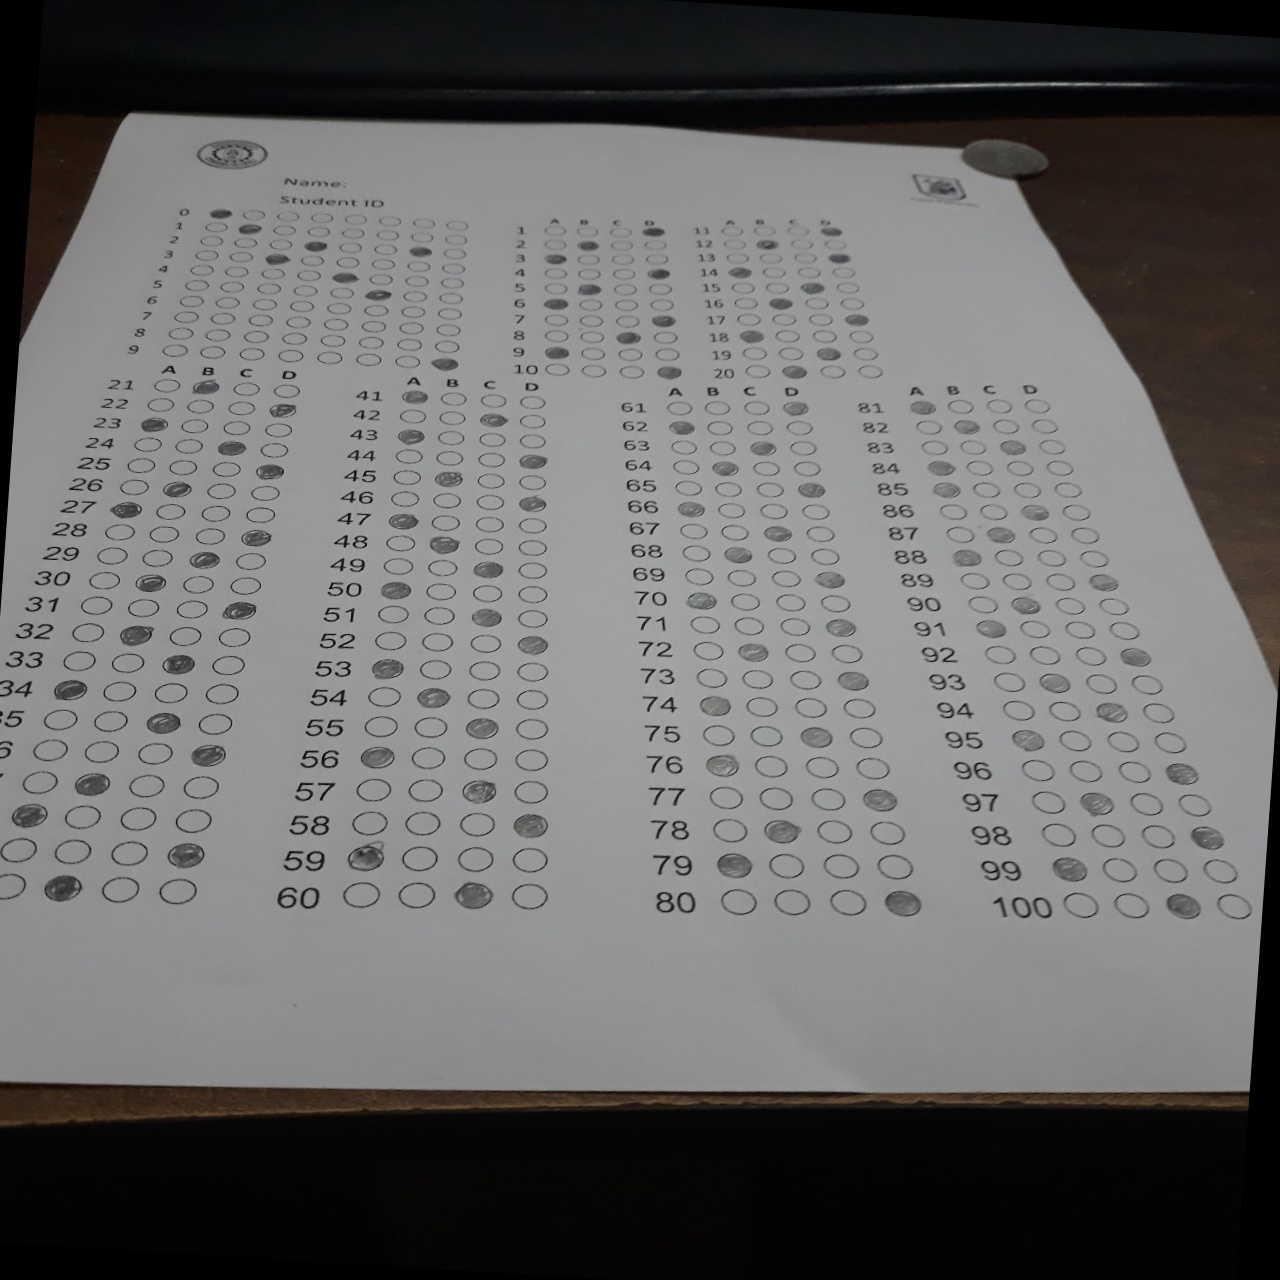not-c: (116, 801, 158, 832), (61, 802, 104, 832), (455, 808, 498, 838), (362, 678, 406, 708), (19, 767, 61, 797), (508, 774, 550, 804), (509, 713, 551, 743), (108, 839, 151, 869), (504, 881, 547, 911), (400, 844, 443, 873), (408, 741, 451, 770), (359, 710, 402, 740), (52, 836, 93, 866), (508, 844, 549, 874), (29, 734, 72, 763), (96, 874, 138, 904), (156, 876, 198, 905), (342, 879, 384, 908), (394, 879, 436, 908), (452, 842, 495, 871), (350, 774, 393, 803), (457, 743, 499, 772), (508, 744, 550, 774), (171, 806, 215, 835), (869, 816, 908, 846), (402, 809, 443, 838), (348, 808, 389, 837), (404, 774, 445, 803), (410, 710, 451, 740), (462, 682, 503, 712), (1114, 756, 1152, 787), (707, 783, 747, 812), (708, 815, 748, 844), (1065, 757, 1105, 787), (1060, 890, 1098, 919), (1129, 789, 1167, 818), (414, 628, 454, 656), (828, 887, 867, 915), (719, 887, 758, 915), (813, 816, 853, 844), (874, 850, 914, 878), (1099, 856, 1139, 884), (1088, 821, 1128, 849), (1173, 790, 1213, 818), (1032, 787, 1071, 815), (1019, 755, 1058, 783), (1103, 726, 1143, 754), (1149, 729, 1189, 757), (510, 685, 549, 713), (512, 656, 551, 685), (767, 851, 805, 879), (821, 852, 859, 880), (772, 886, 811, 914), (1114, 892, 1152, 920), (1214, 891, 1253, 919), (1200, 857, 1239, 885), (1152, 855, 1191, 883), (1040, 819, 1078, 847), (368, 627, 408, 654), (509, 606, 549, 633), (1138, 821, 1176, 849), (465, 654, 504, 681), (414, 658, 452, 685), (465, 626, 504, 653), (1056, 726, 1095, 753), (40, 704, 79, 730), (135, 740, 173, 765), (203, 679, 240, 704), (83, 738, 121, 764), (125, 772, 163, 798), (184, 774, 222, 799), (151, 680, 190, 704), (809, 787, 845, 812), (756, 785, 792, 811), (791, 694, 828, 719), (418, 579, 458, 601), (197, 710, 234, 734), (787, 668, 823, 692), (845, 726, 881, 749), (804, 755, 840, 778), (469, 512, 506, 535), (753, 754, 788, 777), (855, 756, 890, 779), (468, 583, 506, 604), (425, 510, 464, 531), (427, 489, 465, 510), (61, 649, 97, 672), (69, 621, 105, 644), (101, 679, 137, 701), (471, 447, 508, 469), (840, 696, 877, 719), (747, 724, 783, 747), (701, 723, 737, 745), (743, 696, 779, 719), (962, 455, 999, 477), (212, 653, 246, 676), (421, 606, 458, 627), (373, 602, 410, 624), (377, 554, 415, 576), (422, 557, 459, 578), (470, 535, 508, 556), (389, 445, 427, 467), (474, 469, 511, 490), (999, 699, 1036, 720), (1073, 645, 1110, 666), (1128, 673, 1165, 694), (1001, 458, 1039, 479), (124, 595, 159, 618), (165, 625, 200, 647), (79, 594, 114, 617), (1085, 670, 1121, 693), (93, 710, 129, 731), (513, 537, 550, 558), (512, 558, 549, 579), (474, 491, 510, 512), (433, 445, 469, 467), (990, 670, 1027, 692), (982, 644, 1019, 665), (1026, 645, 1062, 666), (1107, 619, 1143, 640), (1097, 594, 1133, 615), (965, 594, 1001, 615), (956, 568, 993, 590), (999, 571, 1035, 592), (1069, 523, 1105, 544), (1026, 525, 1062, 546), (1007, 479, 1043, 501), (1056, 502, 1092, 523), (86, 570, 120, 592), (173, 595, 207, 618), (181, 573, 215, 595), (217, 625, 251, 647), (229, 573, 263, 595), (111, 651, 145, 673), (1051, 594, 1085, 617), (512, 583, 550, 602), (510, 515, 547, 535), (384, 489, 422, 509), (386, 468, 423, 488), (513, 471, 551, 491), (1046, 700, 1081, 721), (1063, 619, 1098, 640), (1016, 618, 1051, 639), (1044, 571, 1080, 592), (1078, 549, 1114, 570), (992, 547, 1027, 568), (942, 523, 978, 544), (975, 502, 1010, 523), (1049, 478, 1084, 499), (937, 499, 972, 520), (1044, 457, 1080, 478), (122, 454, 158, 474), (192, 525, 229, 545), (717, 520, 751, 542), (1141, 701, 1175, 722), (971, 477, 1005, 498), (163, 458, 200, 477), (130, 434, 165, 454), (101, 520, 136, 540), (772, 592, 808, 612), (1033, 549, 1068, 568), (176, 415, 212, 434), (171, 436, 207, 455), (244, 505, 280, 524), (139, 549, 176, 567), (93, 545, 129, 564), (668, 456, 702, 476), (712, 478, 745, 498), (753, 481, 787, 501), (757, 501, 791, 520), (726, 567, 760, 587), (680, 565, 714, 585), (762, 544, 796, 564), (802, 522, 836, 542), (819, 592, 853, 612), (729, 590, 763, 610), (731, 617, 765, 636), (689, 614, 723, 634), (692, 640, 726, 660), (829, 644, 863, 663), (210, 458, 245, 477), (204, 481, 239, 499), (247, 482, 282, 501), (197, 503, 232, 522), (152, 502, 188, 520), (118, 478, 154, 497), (147, 523, 182, 542), (670, 477, 703, 497), (799, 502, 832, 522), (713, 499, 745, 519), (678, 520, 710, 540), (680, 543, 713, 563), (770, 568, 803, 588), (809, 546, 842, 566), (694, 667, 727, 687), (742, 669, 775, 689), (784, 644, 817, 663), (515, 431, 549, 450), (233, 551, 268, 568), (474, 430, 508, 447), (515, 393, 546, 410), (788, 440, 818, 457), (704, 418, 736, 435), (745, 418, 775, 436), (990, 416, 1020, 434), (435, 428, 465, 444), (436, 409, 467, 425), (516, 411, 546, 428), (741, 399, 771, 415), (707, 440, 737, 456), (667, 437, 697, 454), (1037, 437, 1065, 455), (956, 438, 985, 456), (237, 346, 266, 362), (399, 407, 428, 423), (663, 399, 693, 415), (702, 399, 731, 415), (751, 459, 781, 476), (917, 418, 946, 435), (277, 348, 305, 365), (1030, 416, 1058, 433), (1024, 396, 1053, 413), (983, 399, 1012, 415), (921, 440, 949, 456), (437, 390, 467, 406), (478, 392, 508, 407), (784, 420, 813, 435), (791, 459, 821, 475), (395, 353, 422, 369), (315, 350, 342, 367), (147, 395, 173, 411), (230, 381, 257, 397), (273, 382, 300, 399), (260, 441, 287, 457), (222, 418, 248, 435), (291, 282, 319, 298), (198, 343, 226, 359), (948, 399, 976, 414), (298, 251, 325, 266), (308, 209, 335, 224), (213, 294, 240, 309), (209, 309, 236, 325), (178, 293, 205, 308), (197, 232, 224, 247), (227, 400, 254, 415), (264, 422, 291, 437), (396, 336, 423, 352), (321, 316, 349, 331), (328, 284, 356, 298), (294, 268, 322, 282), (217, 280, 245, 294), (171, 308, 199, 322), (186, 399, 215, 413), (847, 328, 873, 343), (851, 345, 877, 360), (399, 321, 424, 336), (267, 236, 293, 251), (230, 248, 256, 264), (325, 300, 352, 314), (254, 280, 281, 294), (305, 223, 332, 237), (240, 206, 267, 220), (162, 343, 189, 358), (181, 278, 207, 292), (193, 247, 220, 261), (154, 377, 181, 392), (202, 217, 229, 231), (771, 311, 796, 326), (835, 280, 860, 294), (839, 295, 865, 309), (812, 329, 838, 343), (795, 264, 821, 278), (789, 236, 815, 250), (787, 223, 812, 237), (758, 251, 784, 265), (765, 280, 791, 294), (775, 329, 801, 343), (745, 363, 771, 377), (729, 279, 755, 293), (576, 266, 601, 280), (440, 275, 465, 290), (360, 319, 386, 333), (259, 266, 285, 280), (343, 210, 369, 224), (272, 222, 298, 236), (233, 236, 259, 250), (166, 326, 195, 339), (288, 298, 315, 311), (333, 256, 360, 268), (338, 240, 365, 253), (338, 226, 365, 239), (205, 328, 232, 341), (858, 363, 883, 377), (804, 295, 829, 309), (753, 222, 777, 236), (736, 311, 761, 325), (734, 295, 758, 309), (724, 251, 749, 265), (608, 224, 633, 238), (411, 215, 436, 229), (363, 302, 388, 316), (248, 312, 273, 326), (819, 365, 845, 377), (794, 250, 819, 263), (761, 266, 787, 279), (777, 346, 803, 359), (610, 238, 635, 251), (576, 252, 601, 265), (441, 261, 467, 274), (409, 230, 435, 243), (368, 272, 394, 285), (275, 210, 301, 223), (224, 264, 250, 277), (186, 263, 212, 275), (810, 313, 835, 326), (741, 346, 765, 359), (721, 237, 745, 250), (720, 224, 744, 237), (651, 298, 675, 311), (653, 331, 678, 343), (654, 347, 679, 360), (618, 347, 642, 360), (619, 365, 644, 377), (613, 282, 638, 295), (614, 297, 639, 309), (574, 224, 599, 237), (542, 223, 566, 236), (540, 236, 565, 248), (579, 331, 604, 343), (445, 218, 470, 231), (444, 232, 469, 245), (443, 246, 468, 259), (438, 291, 463, 304), (402, 273, 427, 286), (408, 258, 433, 271), (379, 215, 403, 227), (373, 241, 397, 254), (358, 335, 382, 348), (355, 353, 380, 366), (244, 331, 268, 343), (251, 297, 275, 309), (399, 305, 425, 316), (644, 238, 669, 250), (647, 282, 673, 294), (610, 253, 635, 265), (544, 312, 570, 324), (544, 281, 570, 293), (434, 340, 459, 352), (644, 253, 668, 265), (617, 314, 641, 326), (612, 267, 636, 279), (578, 298, 602, 309), (579, 314, 604, 326), (580, 365, 605, 376), (545, 331, 570, 342), (544, 266, 568, 278), (437, 306, 462, 318), (436, 324, 461, 335), (401, 288, 425, 300), (281, 332, 306, 343), (285, 315, 309, 327), (320, 333, 345, 345), (832, 266, 856, 278), (579, 347, 602, 359), (545, 362, 568, 374), (375, 229, 399, 240), (372, 257, 395, 268), (823, 238, 847, 248)
taken-c: (163, 840, 207, 869), (881, 886, 922, 917), (714, 850, 755, 880), (40, 874, 83, 903), (343, 840, 384, 869), (510, 811, 550, 839), (8, 802, 52, 828), (452, 881, 493, 908), (1051, 855, 1089, 884), (1077, 787, 1115, 816), (1189, 822, 1225, 850), (1165, 891, 1201, 919), (1163, 762, 1201, 788), (1092, 699, 1130, 724), (1009, 727, 1047, 753), (973, 617, 1010, 642), (862, 788, 899, 813), (762, 817, 799, 843), (1033, 669, 1071, 694), (462, 715, 501, 740), (1118, 644, 1155, 669), (355, 744, 395, 768), (457, 778, 497, 802), (143, 710, 181, 735), (189, 742, 227, 765), (73, 772, 111, 796), (706, 753, 740, 777), (799, 726, 835, 748), (220, 600, 257, 621), (117, 624, 154, 645), (159, 653, 196, 674), (52, 679, 88, 700), (685, 588, 719, 611), (737, 641, 771, 662), (697, 695, 731, 716), (835, 669, 869, 690), (372, 658, 404, 679), (377, 580, 411, 600), (417, 687, 451, 707), (399, 384, 430, 406), (983, 524, 1016, 544), (951, 547, 983, 567), (908, 397, 941, 417), (779, 397, 812, 417), (665, 415, 697, 435), (750, 436, 783, 456), (813, 570, 846, 590), (476, 411, 509, 431), (515, 452, 547, 472), (434, 470, 467, 490), (425, 535, 458, 554), (515, 635, 547, 655), (188, 549, 220, 568), (1010, 595, 1042, 615), (1089, 571, 1121, 591), (710, 459, 742, 479), (674, 501, 706, 520), (762, 522, 794, 542), (724, 544, 756, 564), (826, 617, 858, 636), (396, 425, 428, 445), (515, 493, 546, 513), (388, 509, 420, 529), (472, 560, 504, 580), (471, 607, 503, 627), (109, 499, 141, 519), (135, 572, 166, 592), (1019, 502, 1051, 520), (931, 478, 964, 497), (795, 479, 828, 498), (926, 459, 956, 479), (240, 527, 271, 547), (996, 438, 1028, 457), (217, 440, 247, 458), (948, 418, 980, 436), (139, 415, 170, 433), (161, 479, 191, 497), (267, 401, 297, 418), (192, 379, 222, 396), (256, 463, 285, 481), (576, 280, 602, 295), (617, 331, 644, 346), (798, 279, 825, 294), (816, 346, 843, 361), (542, 251, 568, 265), (576, 238, 602, 252), (655, 365, 682, 379), (649, 314, 676, 328), (645, 266, 672, 280), (738, 329, 765, 343), (781, 365, 808, 379), (753, 236, 779, 250), (331, 270, 360, 282), (406, 244, 435, 257), (263, 252, 291, 265), (433, 356, 458, 370), (769, 295, 795, 309), (844, 312, 870, 326), (543, 297, 570, 309), (644, 225, 670, 238), (726, 266, 753, 279), (545, 345, 570, 359), (362, 290, 392, 301), (819, 223, 843, 237), (206, 207, 234, 219), (234, 222, 263, 233), (299, 239, 327, 251), (829, 250, 853, 263)
